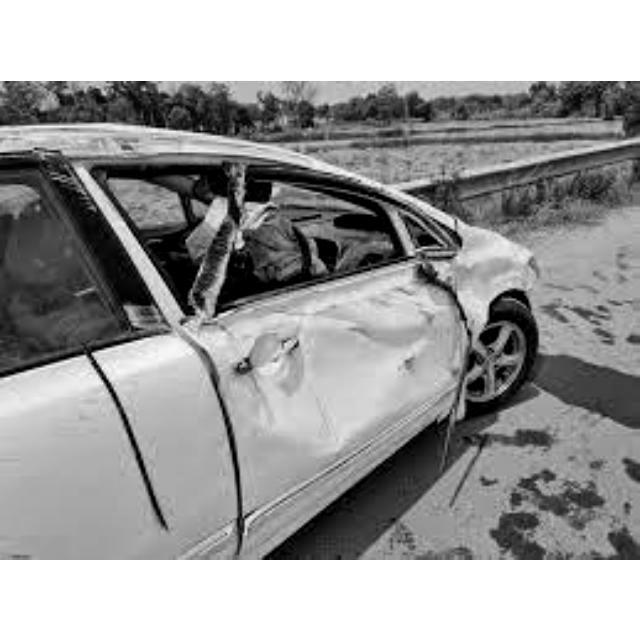doorouter-dent: (220, 266, 464, 532)
fender-dent: (436, 221, 537, 339)
roof-dent: (0, 125, 318, 159)
